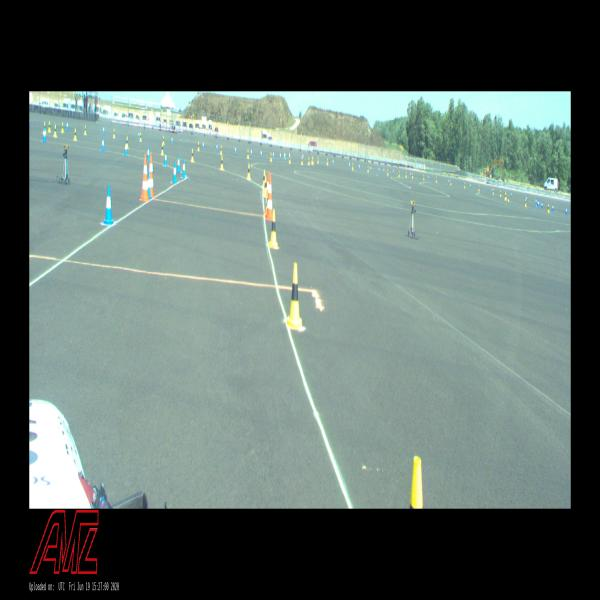blue_cone: (103, 183, 114, 223), (148, 171, 152, 199), (173, 161, 178, 183), (163, 150, 168, 166), (182, 159, 186, 178), (101, 137, 105, 151), (177, 155, 180, 172), (124, 142, 128, 154), (43, 127, 46, 142), (147, 146, 149, 160), (102, 126, 105, 134), (66, 121, 68, 130), (171, 136, 173, 144), (202, 141, 204, 149), (216, 143, 218, 151), (566, 206, 568, 214), (260, 150, 262, 157), (552, 204, 554, 211), (535, 198, 537, 205), (541, 202, 543, 208), (358, 164, 360, 170), (370, 166, 372, 171), (235, 146, 236, 154), (251, 148, 252, 156), (273, 150, 274, 158), (378, 168, 380, 172), (332, 160, 334, 164), (280, 152, 281, 159), (284, 152, 285, 158), (470, 183, 471, 188), (448, 179, 449, 184), (428, 175, 429, 180), (349, 163, 350, 168), (393, 170, 394, 174), (410, 172, 410, 177), (384, 168, 384, 172)
large_orange_cone: (139, 154, 150, 201), (265, 173, 272, 220), (265, 171, 270, 212), (150, 153, 154, 197)
yellow_cone: (287, 263, 303, 329), (269, 209, 278, 249), (247, 163, 251, 179), (220, 156, 224, 169), (264, 175, 266, 197), (191, 149, 194, 162), (74, 128, 77, 140), (48, 120, 51, 132), (263, 169, 265, 186), (161, 143, 164, 154), (54, 125, 57, 136), (84, 126, 87, 134), (140, 132, 142, 142), (113, 128, 115, 138), (62, 122, 64, 132), (220, 145, 222, 154), (247, 150, 249, 158), (270, 153, 272, 161), (548, 204, 550, 212), (507, 194, 509, 202), (289, 156, 291, 163), (301, 157, 303, 164), (308, 157, 310, 164), (127, 136, 128, 148), (317, 157, 319, 163), (387, 169, 389, 175), (398, 171, 400, 177), (367, 167, 369, 172), (405, 172, 407, 177), (450, 180, 452, 185), (478, 186, 480, 191), (198, 142, 199, 150), (525, 199, 526, 207), (327, 158, 328, 165), (352, 163, 353, 169), (500, 190, 501, 196), (412, 173, 413, 178), (436, 177, 437, 182)
